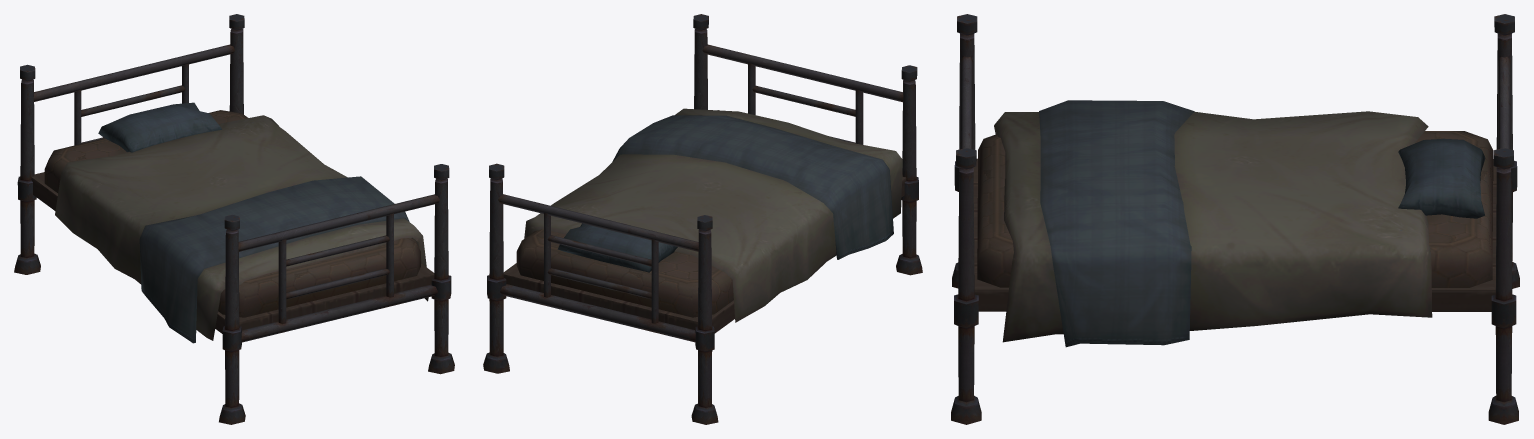
The model's file is Bed.FBX.
The picture shows the model from 3 angles, left to right: view 1: azimuth 30°, elevation 25°; view 2: azimuth 150°, elevation 25°; view 3: azimuth 270°, elevation 25°; orthographic projection. The views are drawn at different scales.
Parts seen in each view (by area): view 1: Bed; view 2: Bed; view 3: Bed.
Part boxes in pixels (x1,y1,x2,y2): Bed: [14, 14, 454, 424]; Bed: [483, 14, 922, 424]; Bed: [951, 14, 1519, 424].
Bounding box in the file's own units: 1.32 × 1.04 × 2.04.
1 material, 1 textured.
